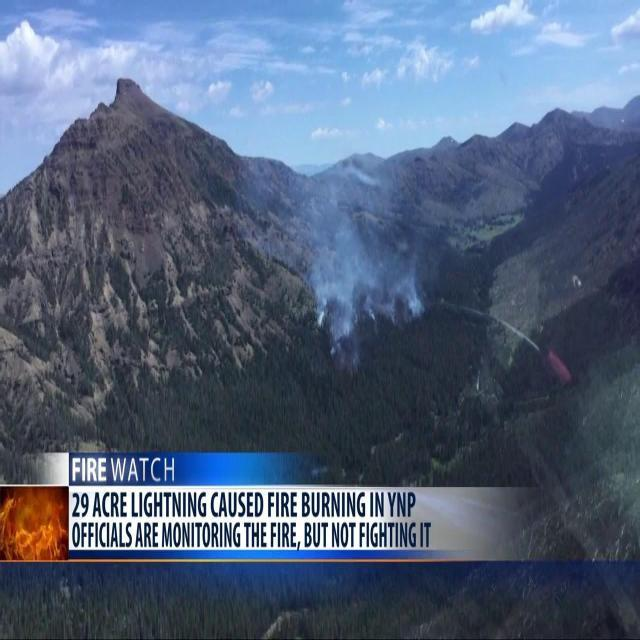Fire: (0, 488, 66, 558)
Smoke: (292, 170, 436, 356)
